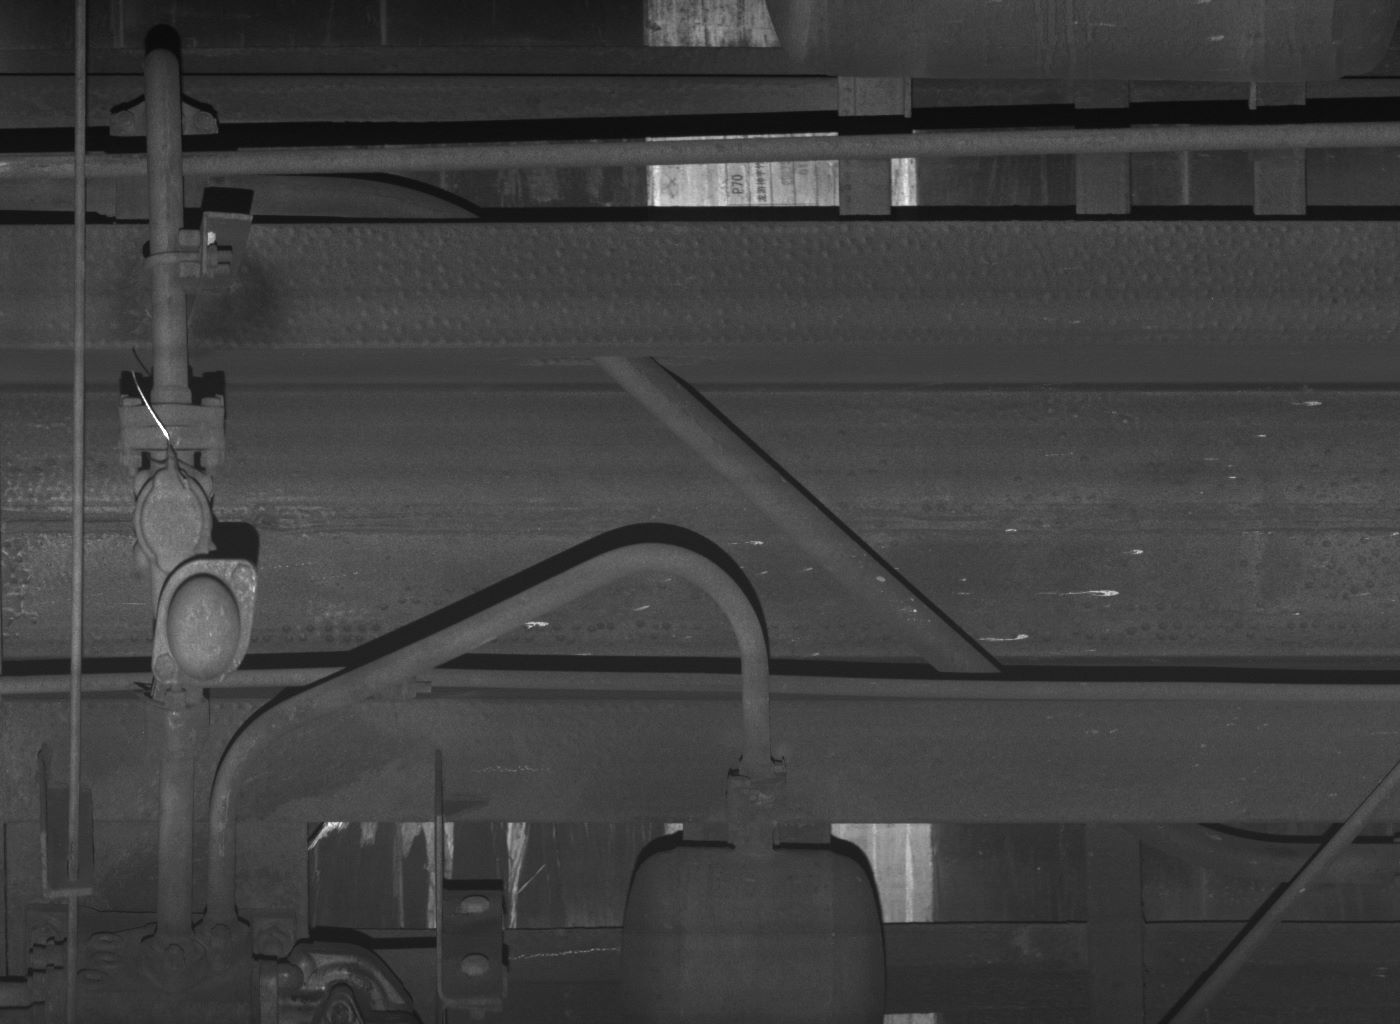Upper lever: (132, 464, 221, 573)
